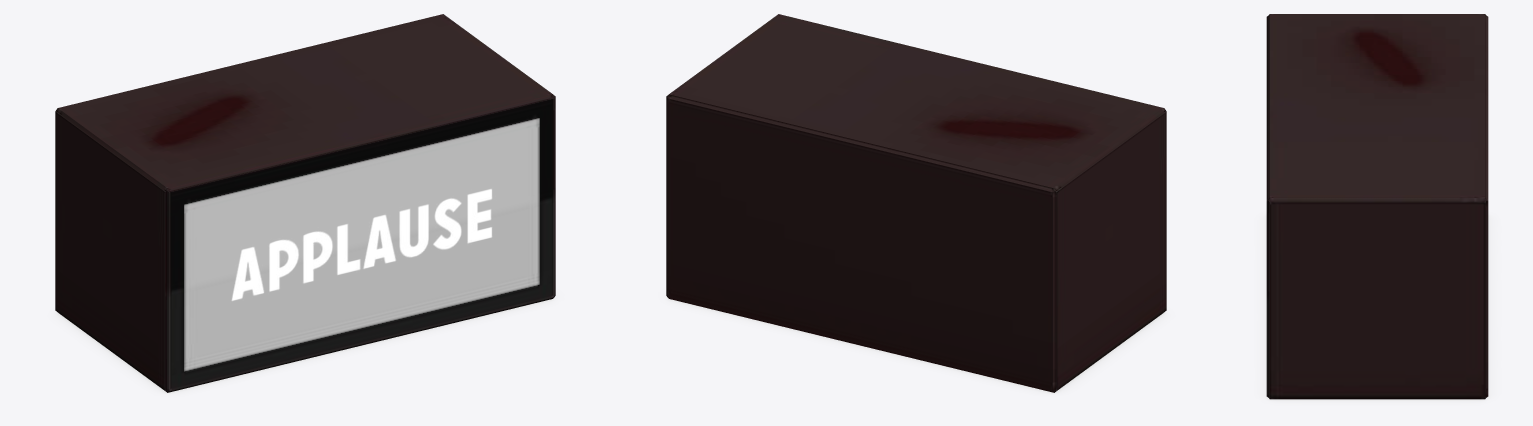
File: left-double-applause-cube.glb
3 views of the same model, side by side, from view 1: azimuth 30°, elevation 25°; view 2: azimuth 150°, elevation 25°; view 3: azimuth 270°, elevation 25° (orthographic).
Parts seen in each view (by area): view 1: Left Double Applause Cube, text, Shadow; view 2: Left Double Applause Cube, Shadow; view 3: Left Double Applause Cube, Shadow.
Boxes of the visible parts, bbox=[...] form: Left Double Applause Cube: bbox=[55, 14, 555, 392]; text: bbox=[231, 189, 492, 300]; Shadow: bbox=[54, 295, 556, 394]; Left Double Applause Cube: bbox=[666, 14, 1166, 392]; Shadow: bbox=[665, 295, 1167, 394]; Left Double Applause Cube: bbox=[1266, 14, 1488, 399]; Shadow: bbox=[1261, 214, 1493, 402].
Size of the model in its own units: 2.24 by 1 by 1.28.
3 materials, 3 textured.
